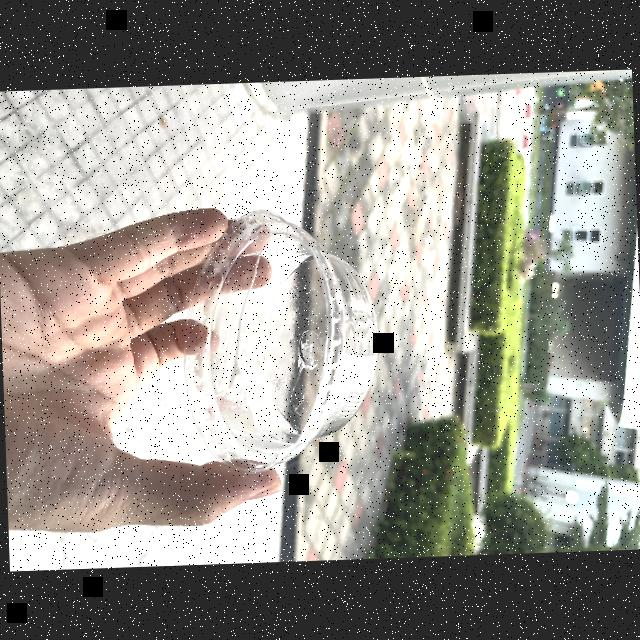plastic_cup_lid: (175, 203, 386, 480)
